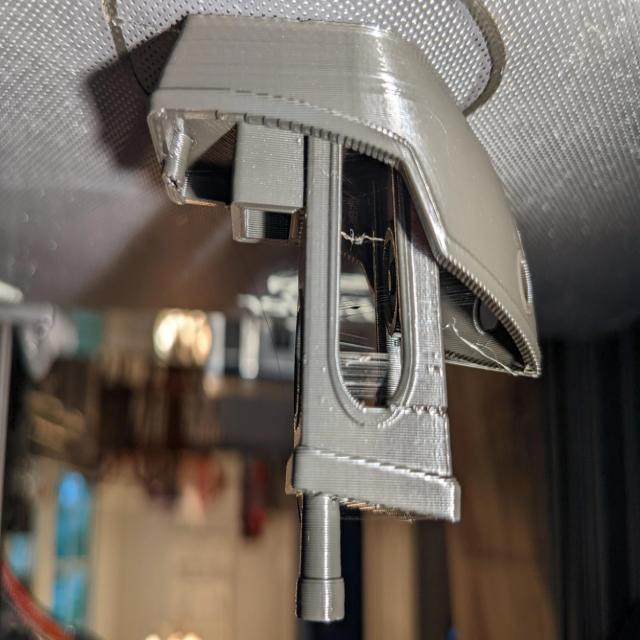Stringing: (338, 355, 390, 381)
